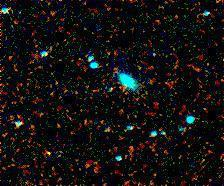star: (33, 138, 63, 168)
